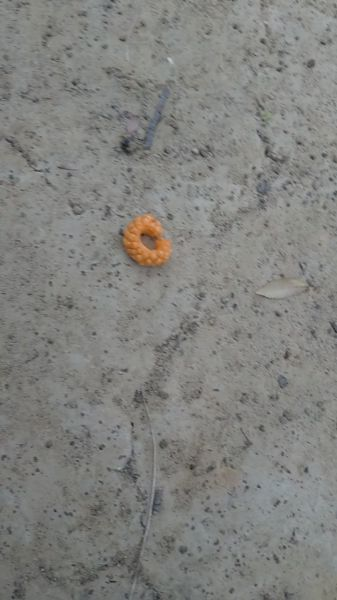eggs: (121, 211, 169, 265)
